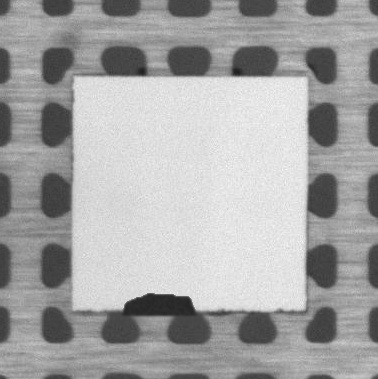DIE_BROKEN: (122, 291, 197, 314)
